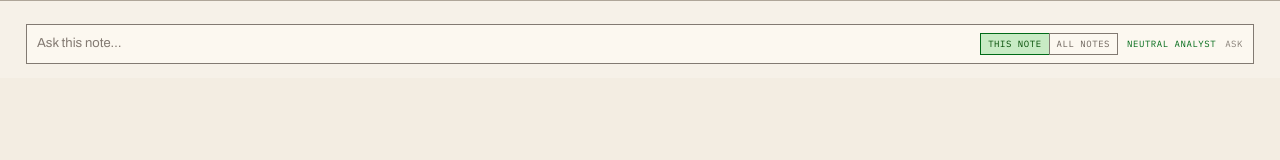
it: ChatPanel — the composer › records what the user types and enables submission
This screenshot has width=1280, height=160.
In the field labelled "Ask this note…": (504, 44) [37, 34, 971, 54], type "Who owns the SOW?"
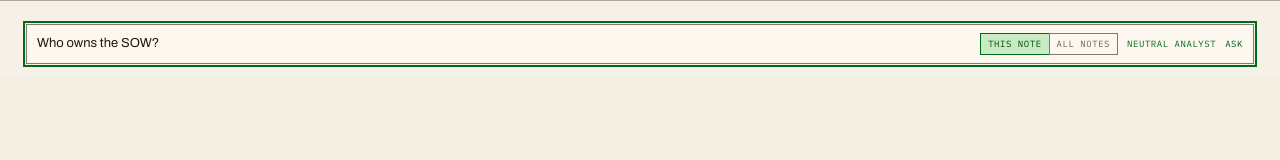
Expected: the button "Ask" is enabled, [1225, 37, 1243, 50]
